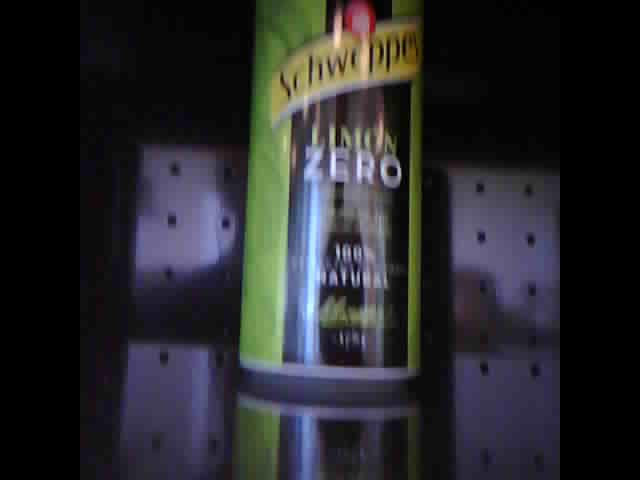schweppes: (235, 1, 430, 395)
